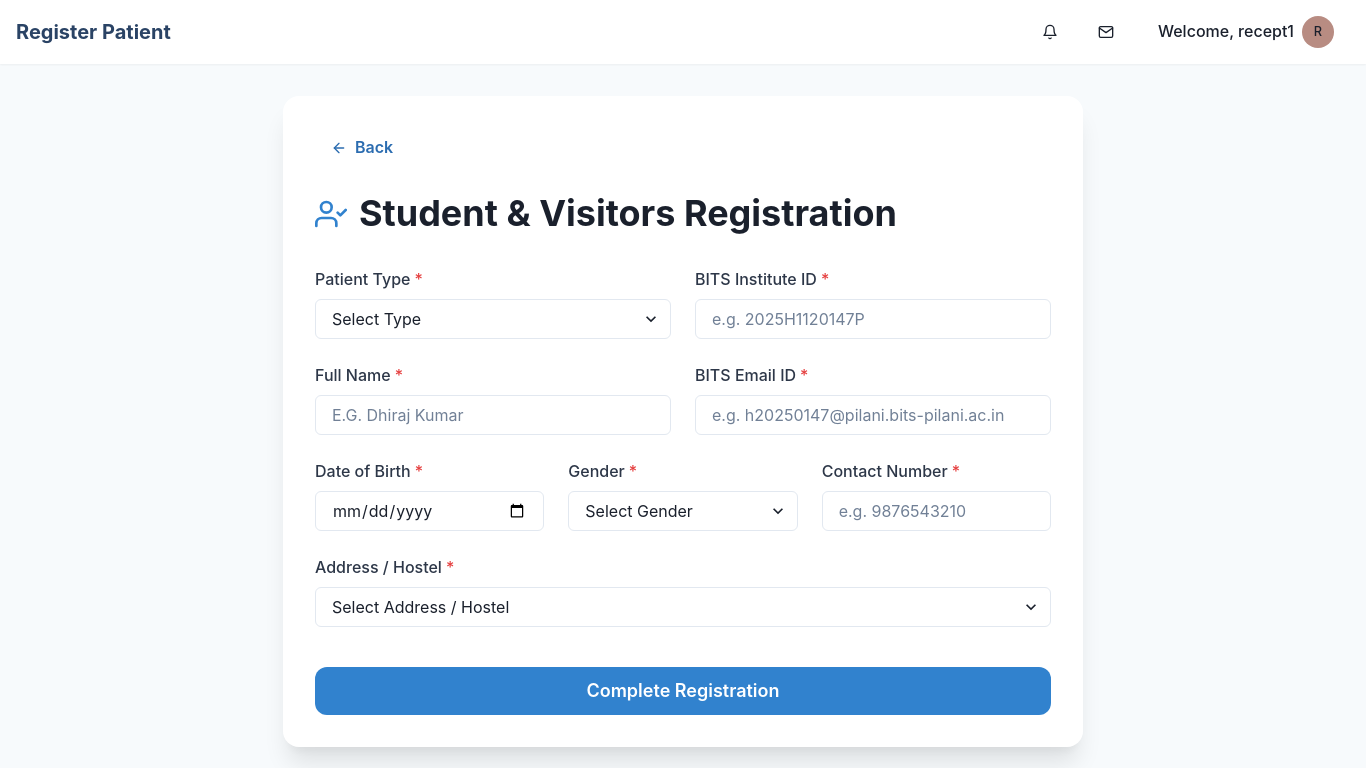
it: ReceptionistStudentRegistration Component › shows custom address input when "Other" is selected
The width and height of the screenshot is (1366, 768).
Select "Other" in the dropdown labelled "Address / Hostel*" at (683,607), box [315, 587, 1051, 627]
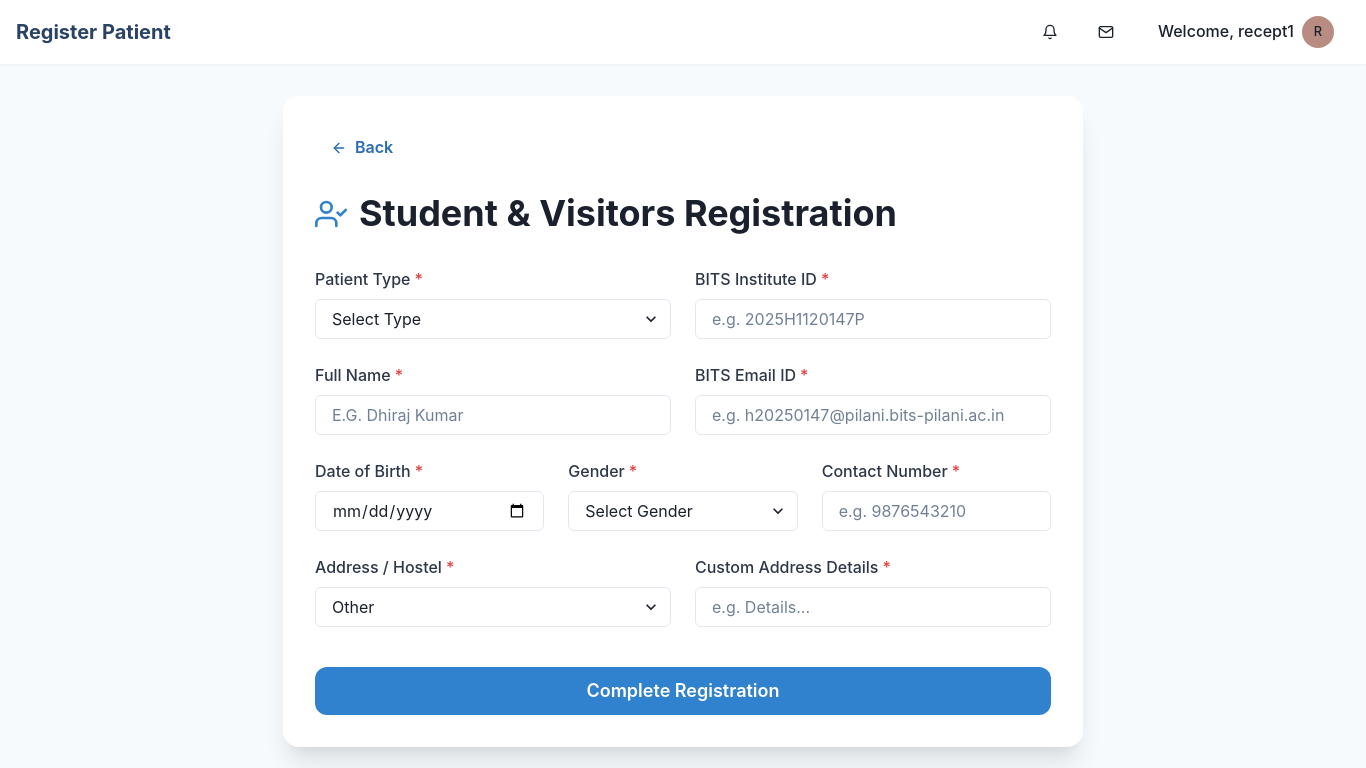
Check: the field labelled "Custom Address Details*" is shown, box [695, 587, 1051, 627]
